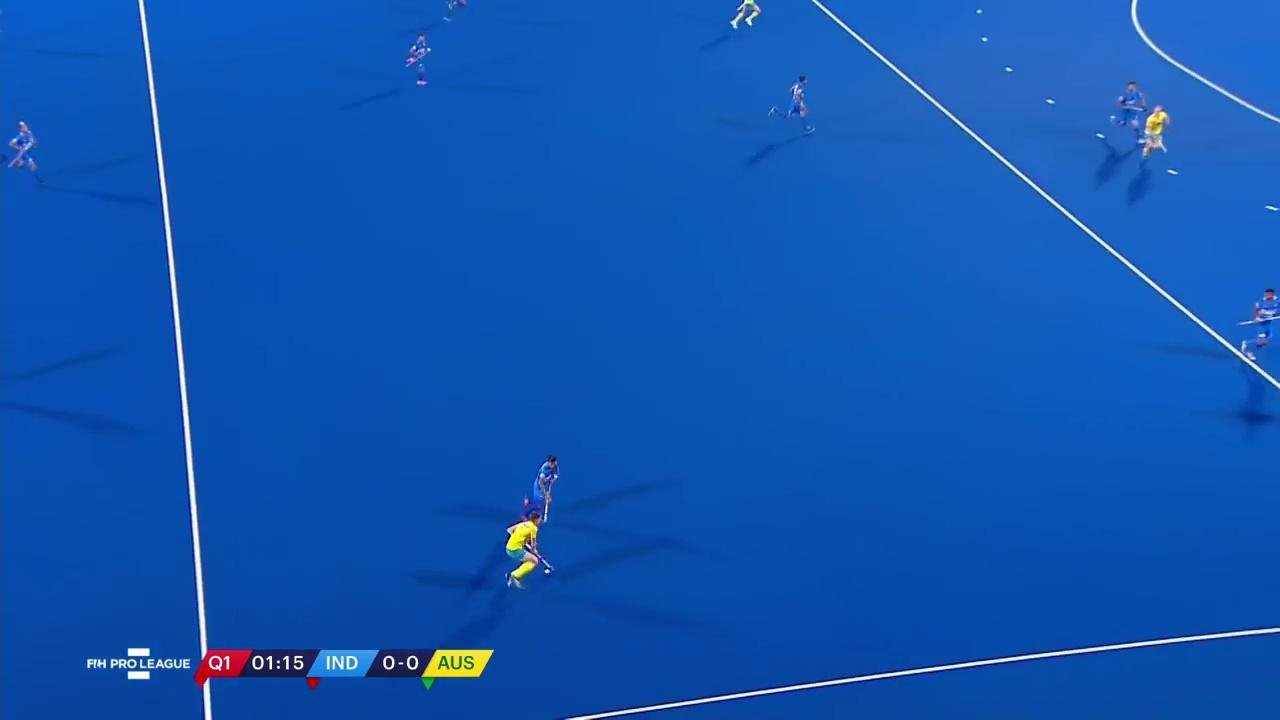ball: (541, 563, 556, 579)
